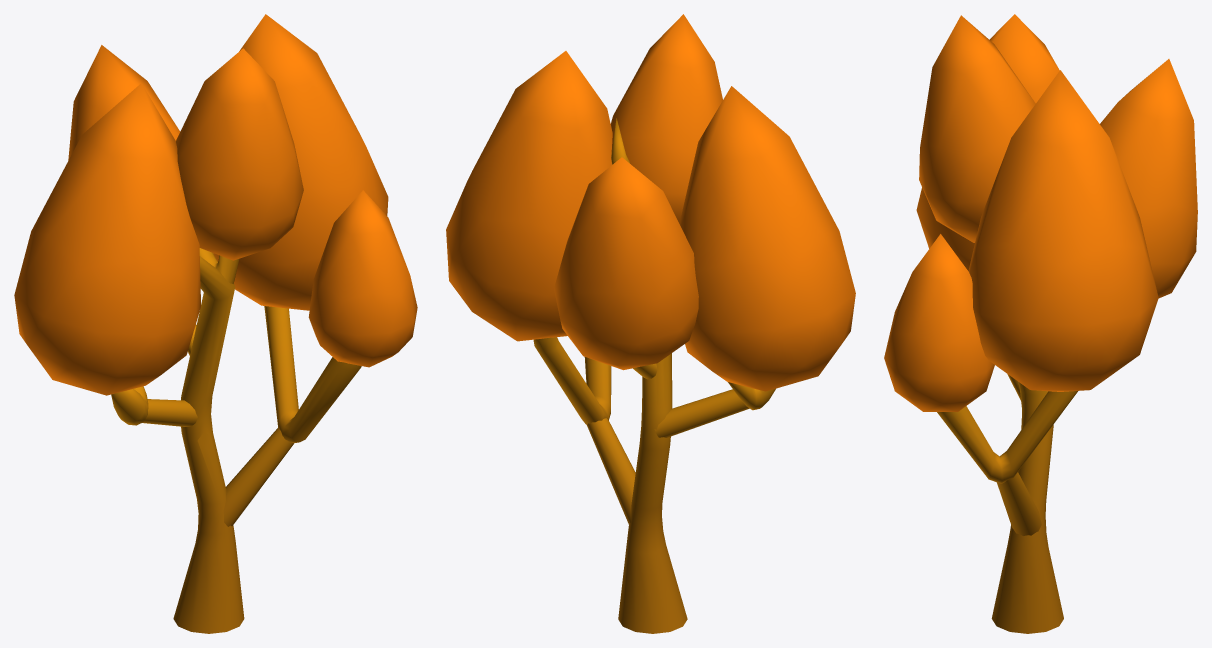
The model's file is Tree_04.1.fbx.
3 views of the same model, side by side, from view 1: azimuth 30°, elevation 25°; view 2: azimuth 150°, elevation 25°; view 3: azimuth 270°, elevation 25° (orthographic). The views are drawn at different scales.
Parts seen in each view (by area): view 1: Tree_04.1; view 2: Tree_04.1; view 3: Tree_04.1.
Boxes of the visible parts, left/top/right/bottom form: Tree_04.1: left=14, top=14, right=417, bottom=633; Tree_04.1: left=446, top=14, right=855, bottom=633; Tree_04.1: left=884, top=14, right=1197, bottom=633.
Size of the model in its own units: 247 by 179 by 381.
